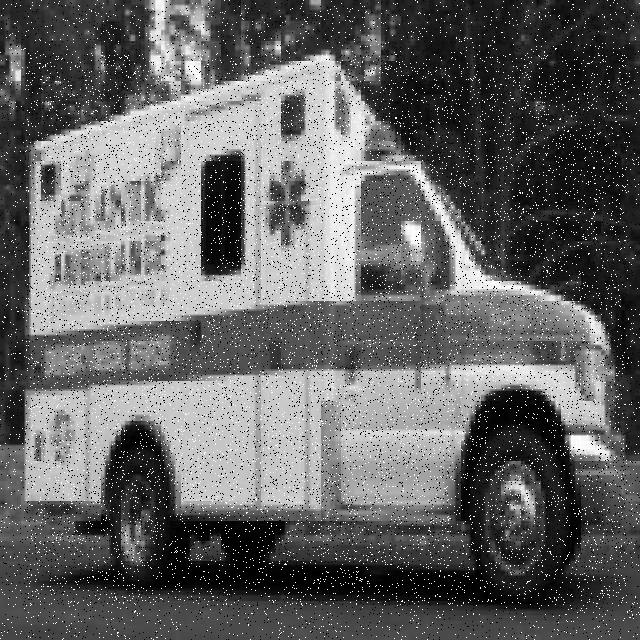Ambulance: (25, 54, 627, 606)
